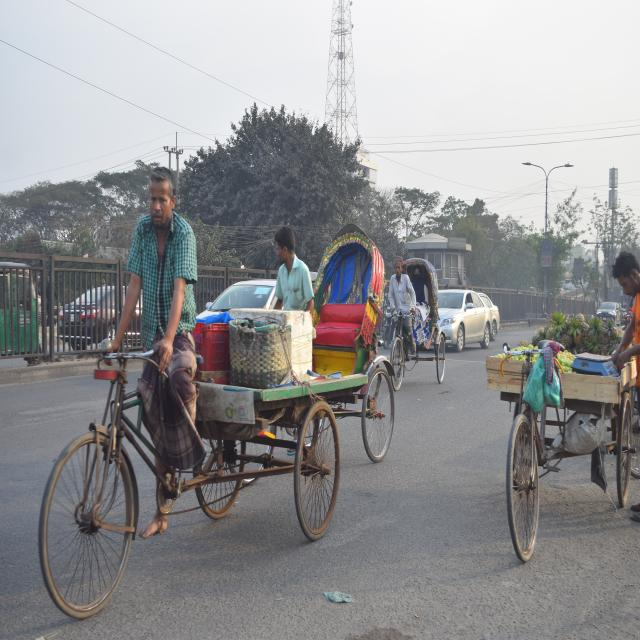car: (67, 282, 148, 356), (434, 279, 489, 351)
